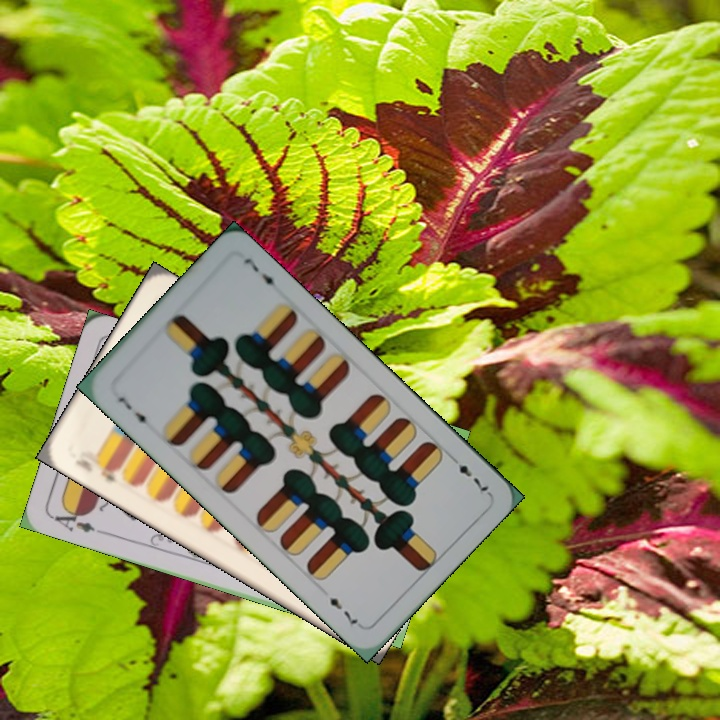E10: (71, 455, 121, 485)
E7: (445, 450, 492, 496), (114, 392, 152, 432)
EA: (48, 503, 106, 537)
